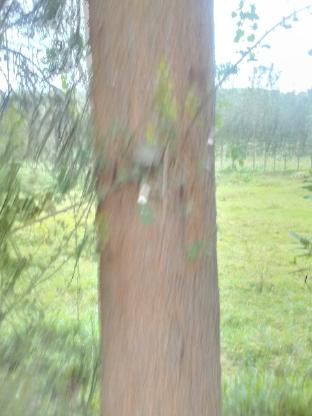tree: (79, 0, 230, 416)
